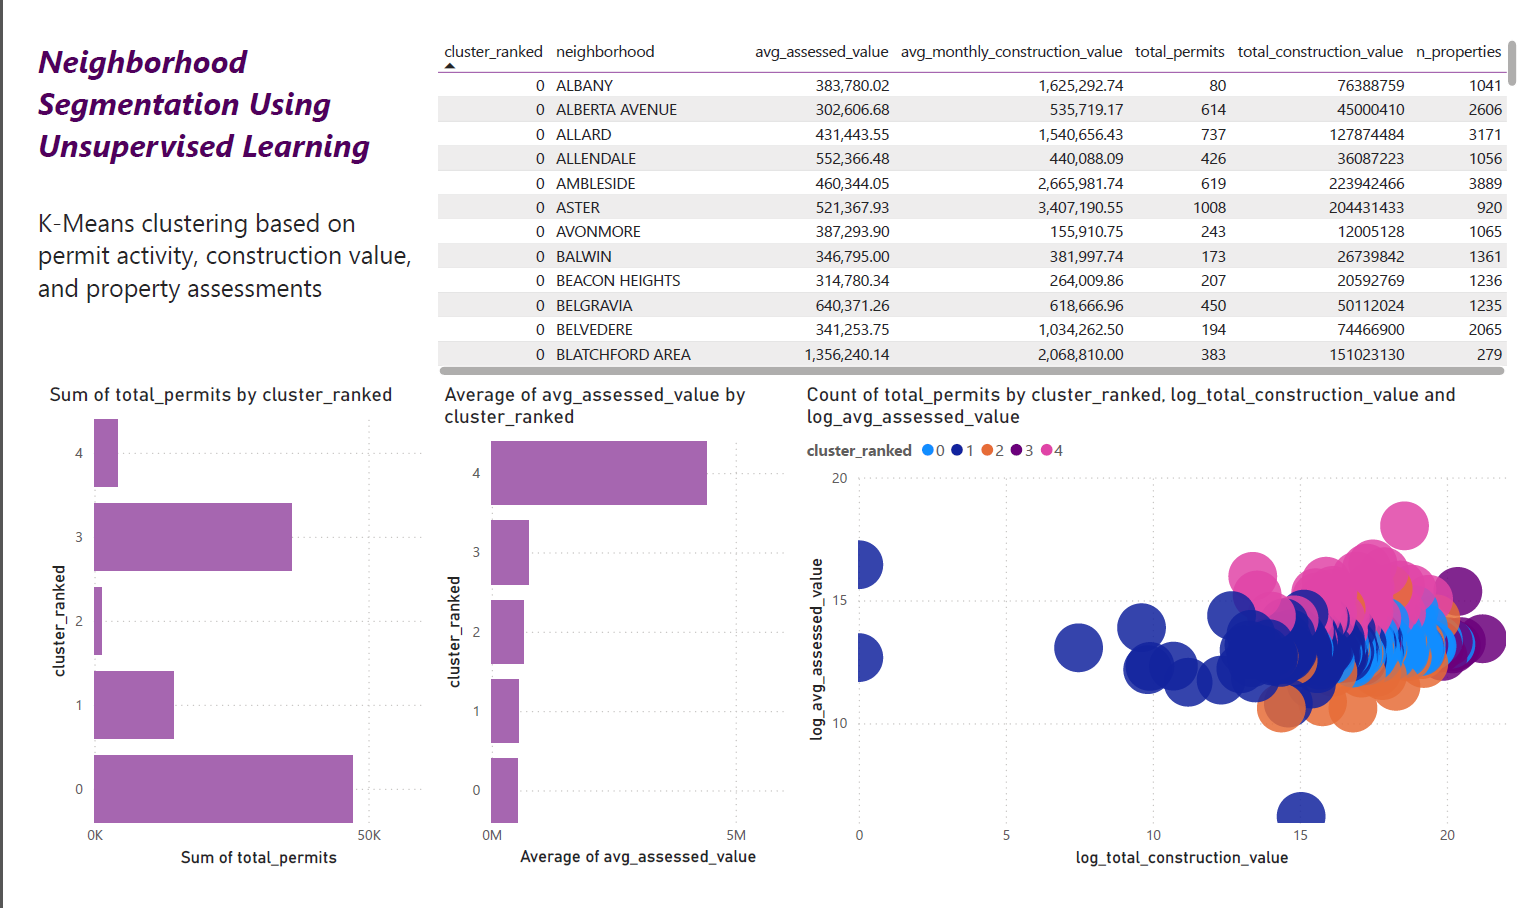

Layout of this report page (visuals, bound fields, positions):
{"tool":"powerbi","page":{"name":"Page 2","canvas":[1280,720],"ordinal":1},"visuals":[{"type":"tableEx","fields":{"Values":["neighborhood_clusters.cluster_ranked","neighborhood_clusters.neighborhood","neighborhood_clusters.avg_assessed_value","neighborhood_clusters.avg_monthly_construction_value","neighborhood_clusters.total_permits","neighborhood_clusters.total_construction_value","neighborhood_clusters.n_properties"]},"box":[342.9,0,937.1,298.6],"z":0},{"type":"clusteredBarChart","fields":{"Category":["neighborhood_clusters.cluster_ranked"],"Y":["Sum(neighborhood_clusters.total_permits)"]},"box":[10,298.6,341.4,421.4],"z":1000},{"type":"clusteredBarChart","fields":{"Category":["neighborhood_clusters.cluster_ranked"],"Y":["Avg(neighborhood_clusters.avg_assessed_value)"]},"box":[348.6,298.6,311.4,421.4],"z":2000},{"type":"scatterChart","fields":{"X":["neighborhood_clusters.log_total_construction_value"],"Series":["neighborhood_clusters.cluster_ranked"],"Y":["neighborhood_clusters.log_avg_assessed_value"],"Size":["CountNonNull(neighborhood_clusters.total_permits)"]},"box":[660,298.6,617.1,421.4],"z":3000},{"type":"textbox","box":[0,0,342.5,298.8],"z":4000}]}

Visuals, with their boxes on the page's 1280x720 design canvas (x1, y1, x2, y2). These are canvas units, not pixel positions in the 1520x908 screenshot, which may show the page scaled, cropped or inside an application window:
tableEx - neighborhood_clusters.cluster_ranked x neighborhood_clusters.neighborhood: {"left": 343, "top": 0, "right": 1280, "bottom": 299}
clusteredBarChart - neighborhood_clusters.cluster_ranked x Sum(neighborhood_clusters.total_permits): {"left": 10, "top": 299, "right": 351, "bottom": 720}
clusteredBarChart - neighborhood_clusters.cluster_ranked x Avg(neighborhood_clusters.avg_assessed_value): {"left": 349, "top": 299, "right": 660, "bottom": 720}
scatterChart - neighborhood_clusters.log_total_construction_value x neighborhood_clusters.cluster_ranked: {"left": 660, "top": 299, "right": 1277, "bottom": 720}
textbox: {"left": 0, "top": 0, "right": 342, "bottom": 299}
